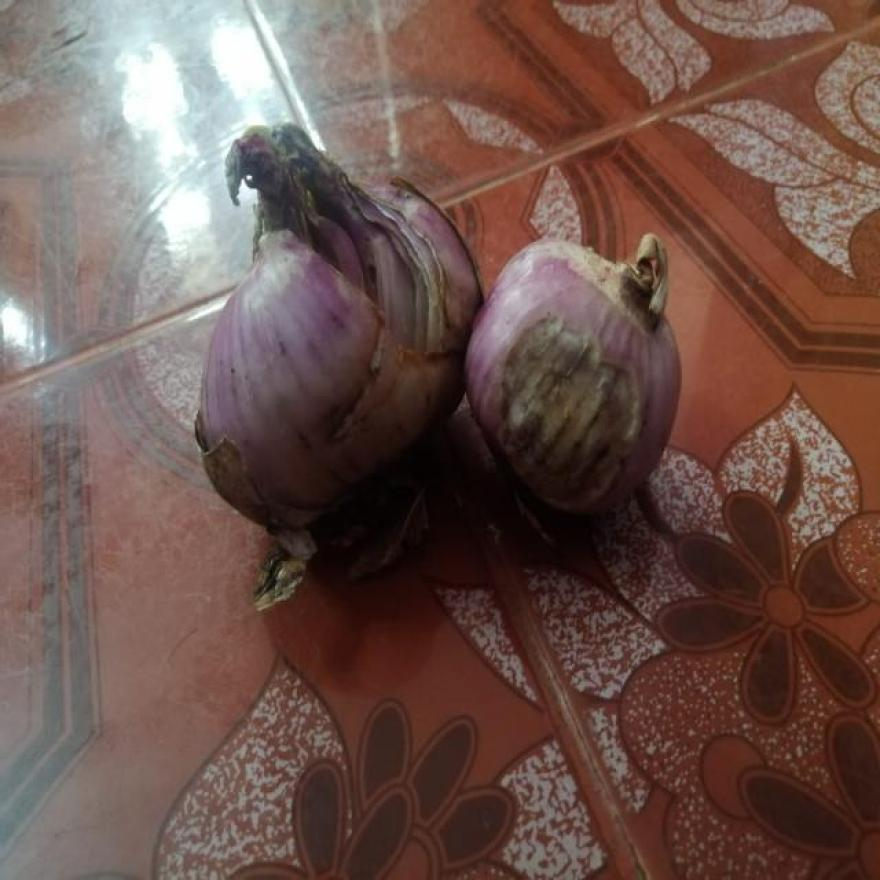Rotten: (272, 138, 408, 316), (513, 326, 625, 495)
